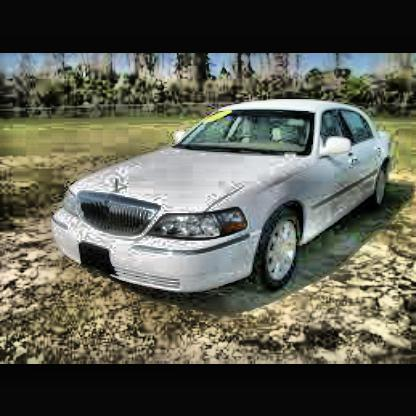Lincoln Town Car Sedan 2011: (44, 97, 400, 310)
